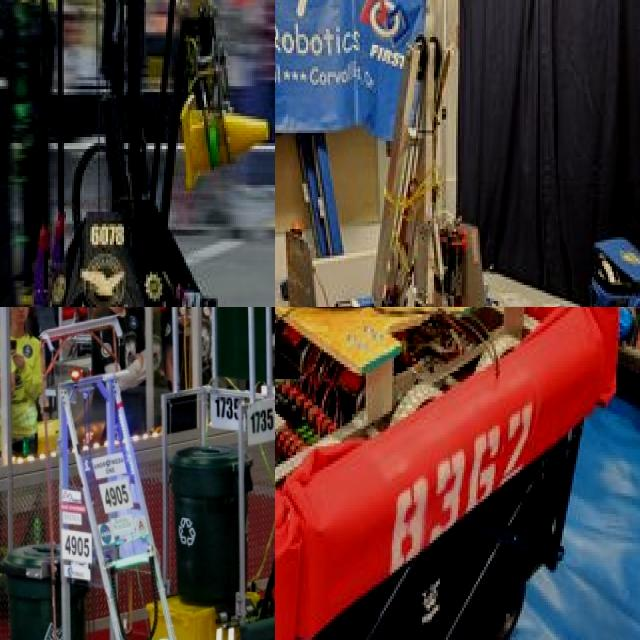FRC-Robots: (275, 307, 638, 636), (275, 0, 587, 307), (26, 0, 260, 307), (34, 354, 180, 640), (179, 307, 275, 640)
